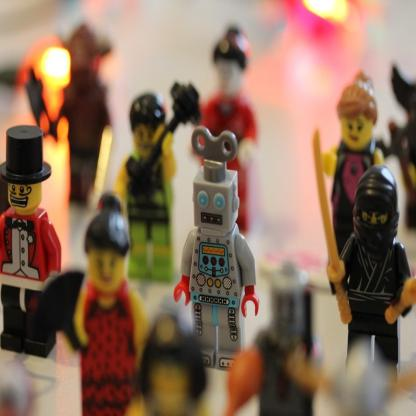Helmet: (352, 173, 406, 257)
